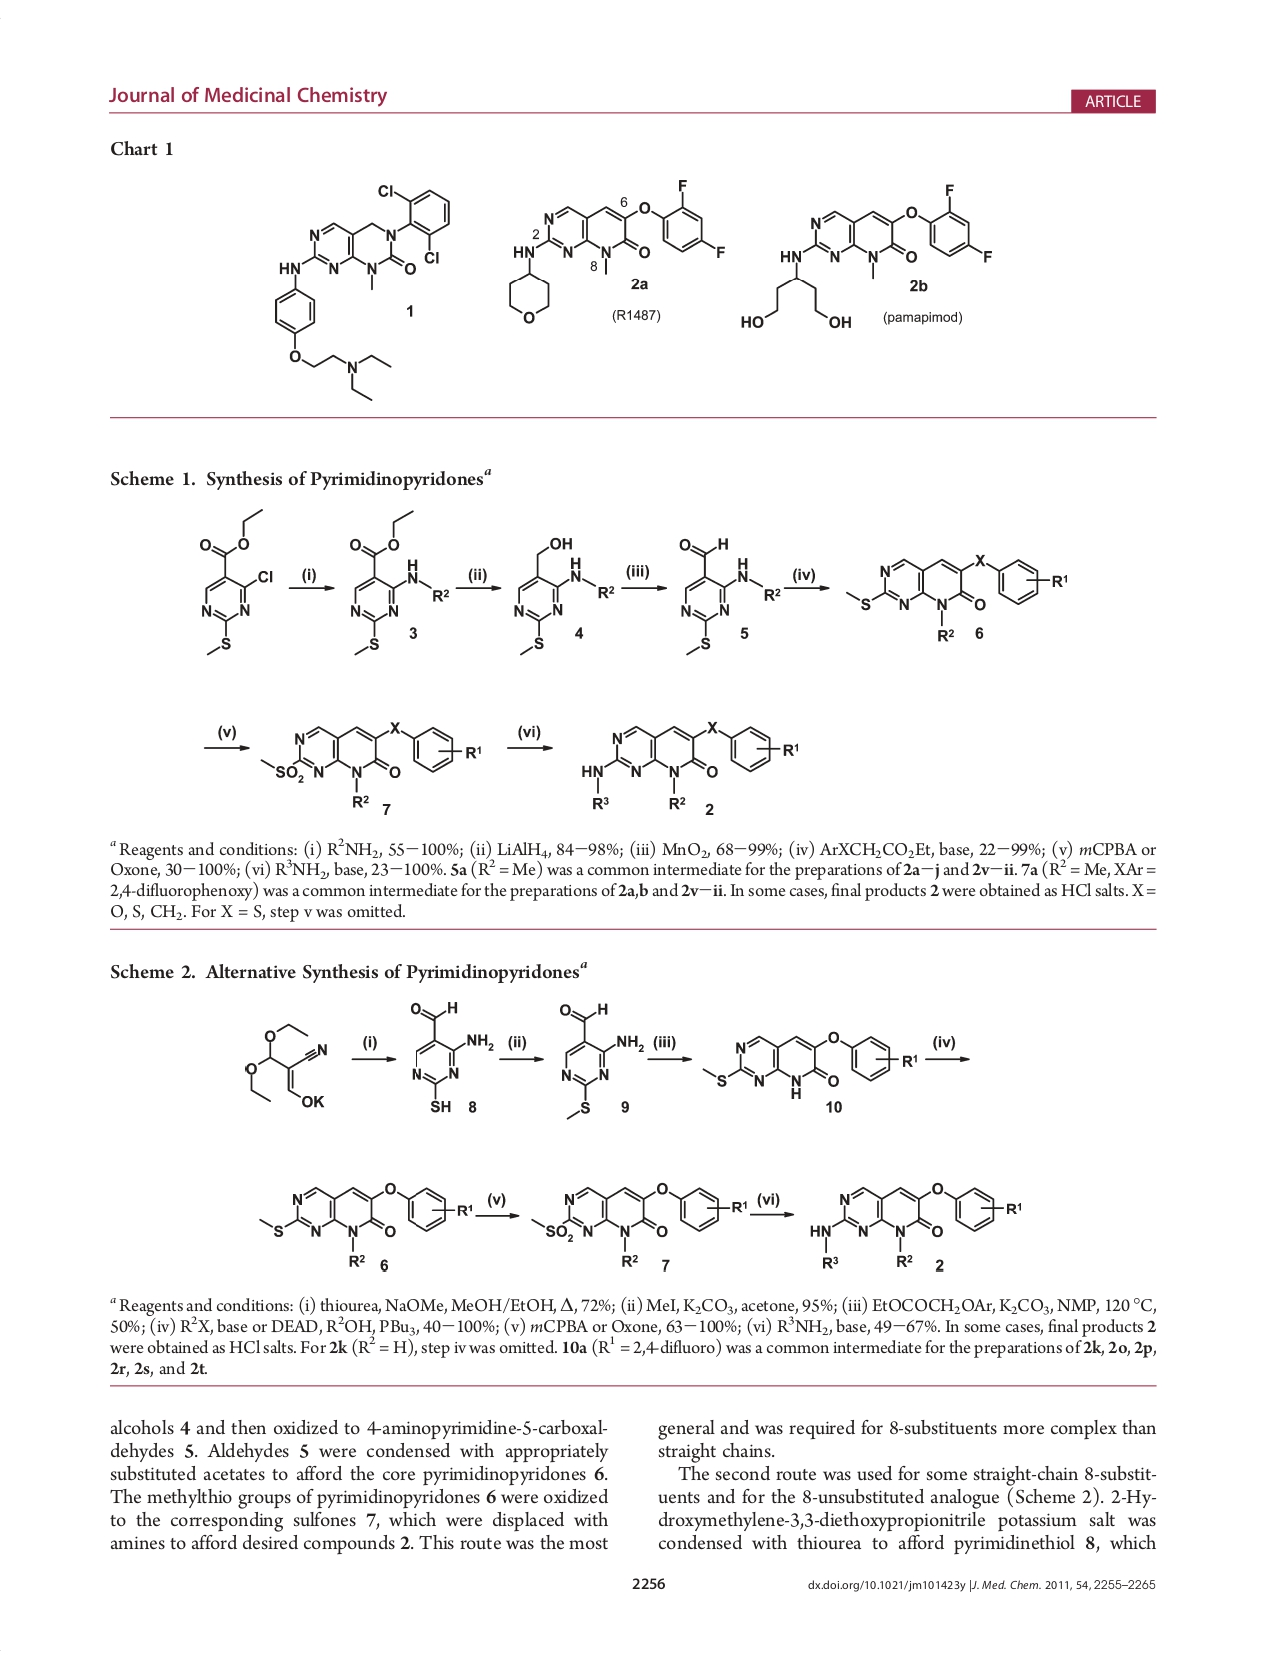exist_molecular: (267, 180, 456, 403), (739, 180, 995, 330), (508, 176, 729, 326), (840, 551, 1072, 645), (576, 717, 802, 813), (525, 1176, 747, 1270), (257, 719, 483, 810), (805, 1180, 1024, 1271), (253, 1182, 473, 1270), (346, 507, 451, 657), (699, 1031, 918, 1102), (190, 503, 275, 660), (511, 533, 616, 660), (676, 533, 782, 657), (398, 999, 497, 1117), (553, 997, 646, 1122), (233, 1016, 336, 1114)
